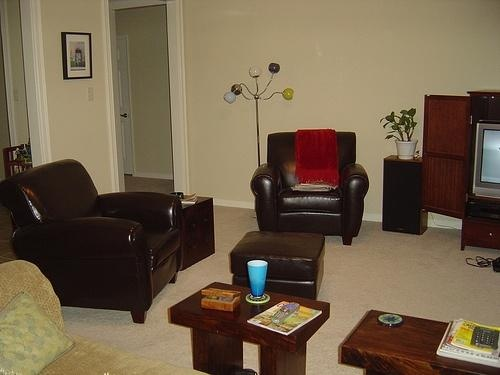chair: (3, 159, 182, 323), (251, 129, 367, 246)
tvmonitor: (474, 123, 500, 201)
